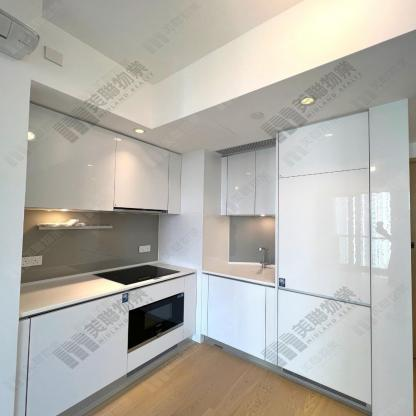Cupboard: (199, 108, 373, 416), (21, 98, 182, 215), (23, 291, 127, 416)
Faucet: (253, 244, 273, 272)
Microwave: (127, 292, 184, 353)
Stove: (92, 263, 181, 285)
